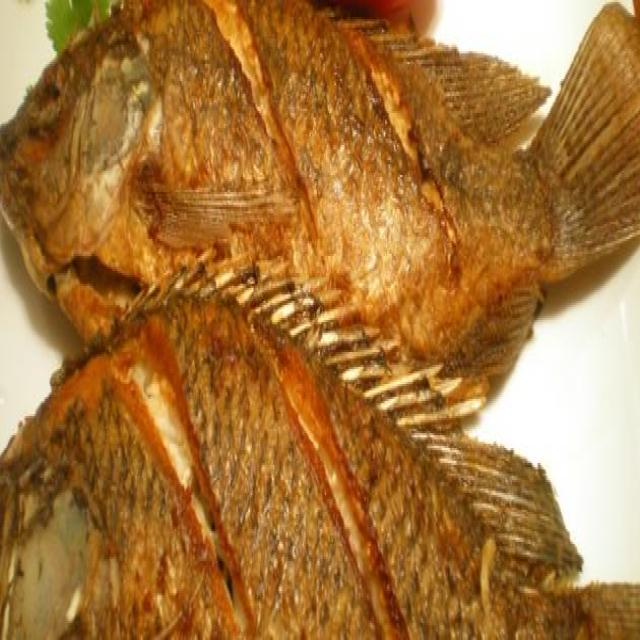Peixe: (0, 0, 639, 414), (0, 284, 639, 638)
